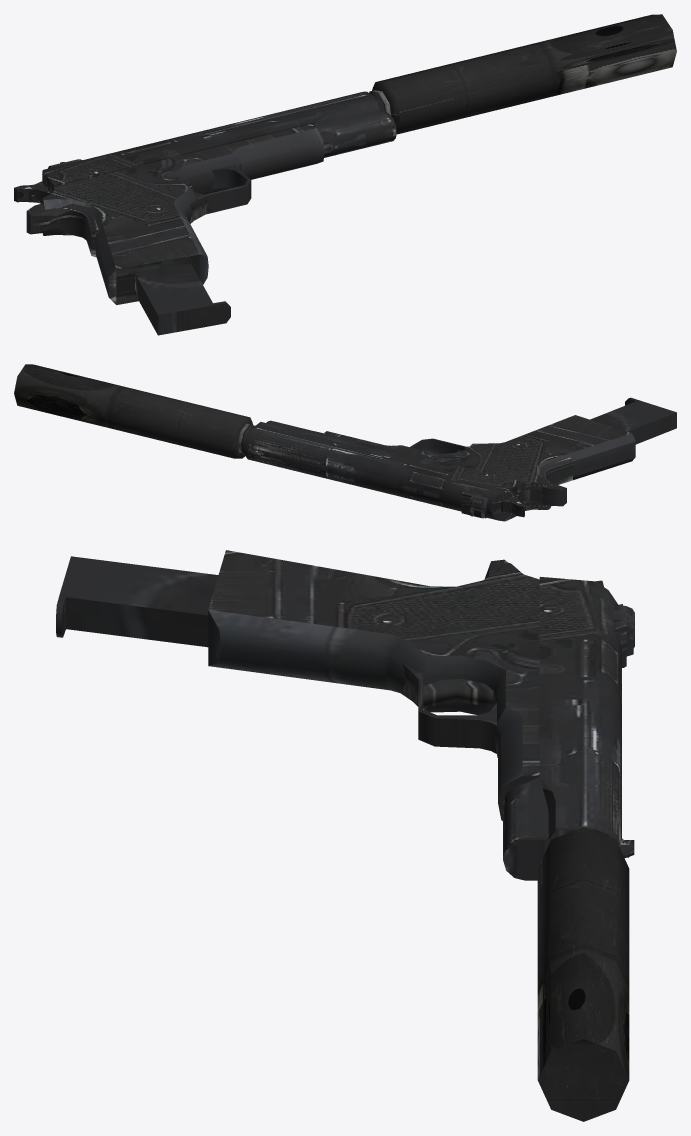
File: t5_weapon_1911_world.glb
3 renders of one model, top to bottom at view 1: azimuth 30°, elevation 25°; view 2: azimuth 150°, elevation 25°; view 3: azimuth 270°, elevation 25°, orthographic. The views are drawn at different scales.
Parts seen in each view (by area): view 1: t5_weapon_1911_world; view 2: t5_weapon_1911_world; view 3: t5_weapon_1911_world.
Part boxes in pixels (x1,y1,x2,y2): t5_weapon_1911_world: (14, 14, 676, 335); t5_weapon_1911_world: (14, 364, 676, 521); t5_weapon_1911_world: (56, 550, 634, 1121).
Bounding box in the file's own units: 0.4032 × 0.0306 × 0.1932.
Materials: 2 (2 with a texture image).
